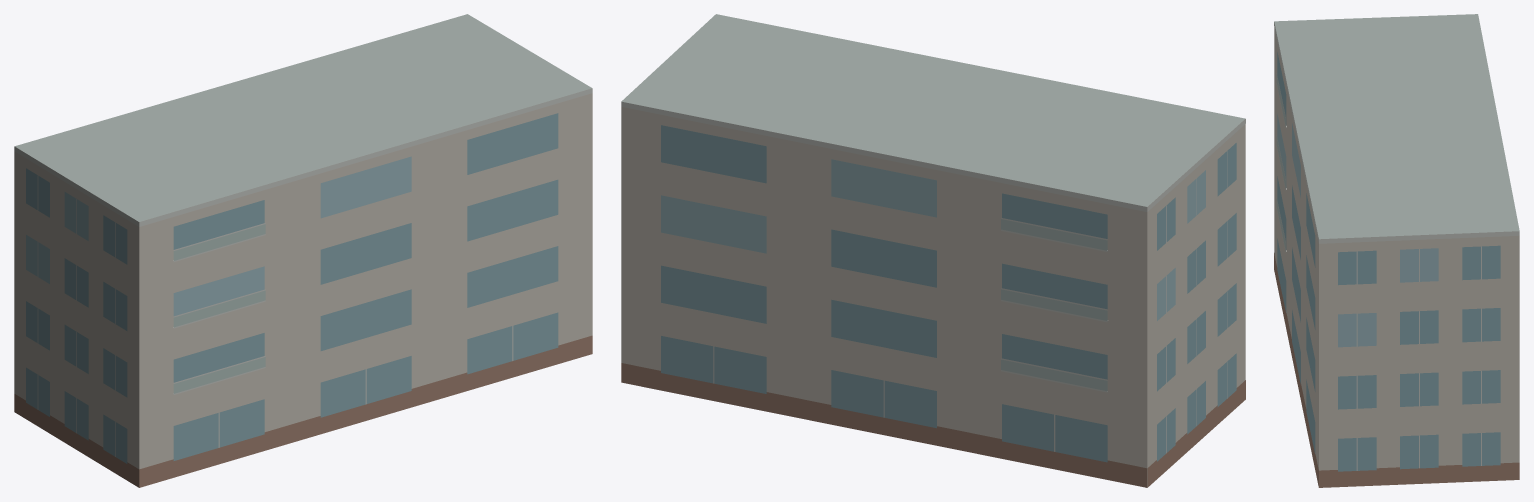
File: survey-upis-32753599.glb
3 views of the same model, side by side, from view 1: azimuth 30°, elevation 25°; view 2: azimuth 150°, elevation 25°; view 3: azimuth 270°, elevation 25° (orthographic). The views are drawn at different scales.
Parts seen in each view (by area): view 1: survey-upis-32753599.tmp; view 2: survey-upis-32753599.tmp; view 3: survey-upis-32753599.tmp.
Part boxes in pixels (x1,y1,x2,y2): survey-upis-32753599.tmp: (14,14,592,487); survey-upis-32753599.tmp: (621,14,1245,487); survey-upis-32753599.tmp: (1274,14,1519,487).
Size of the model in its own units: 25.64 by 13.2 by 11.82.
